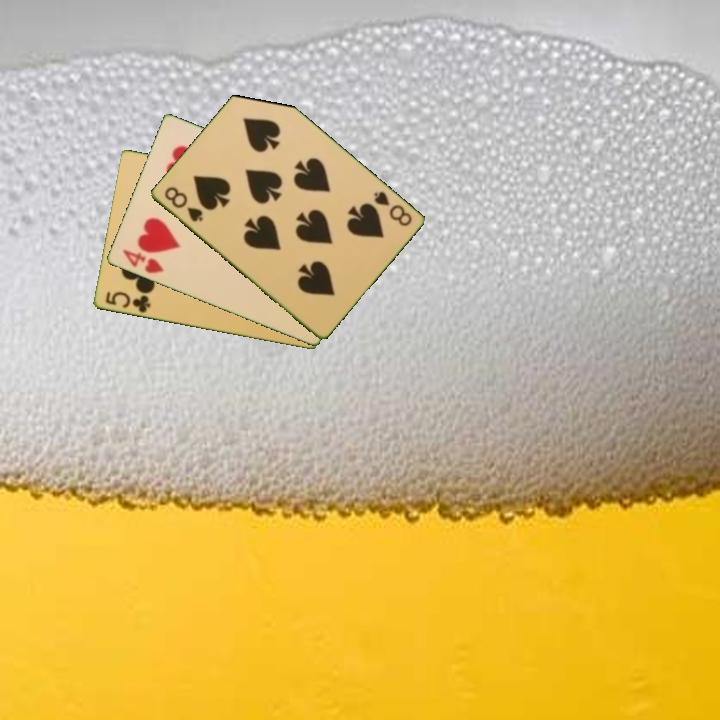4h: (119, 246, 166, 277)
5c: (101, 288, 153, 316)
8s: (160, 183, 206, 225), (370, 188, 415, 229)
